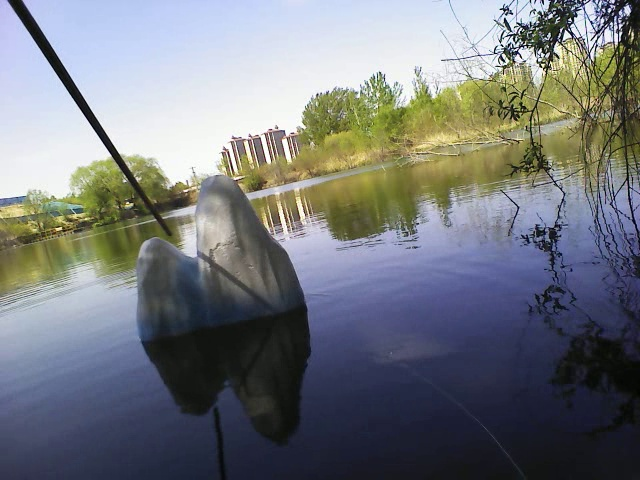iceberg: (127, 174, 314, 345)
